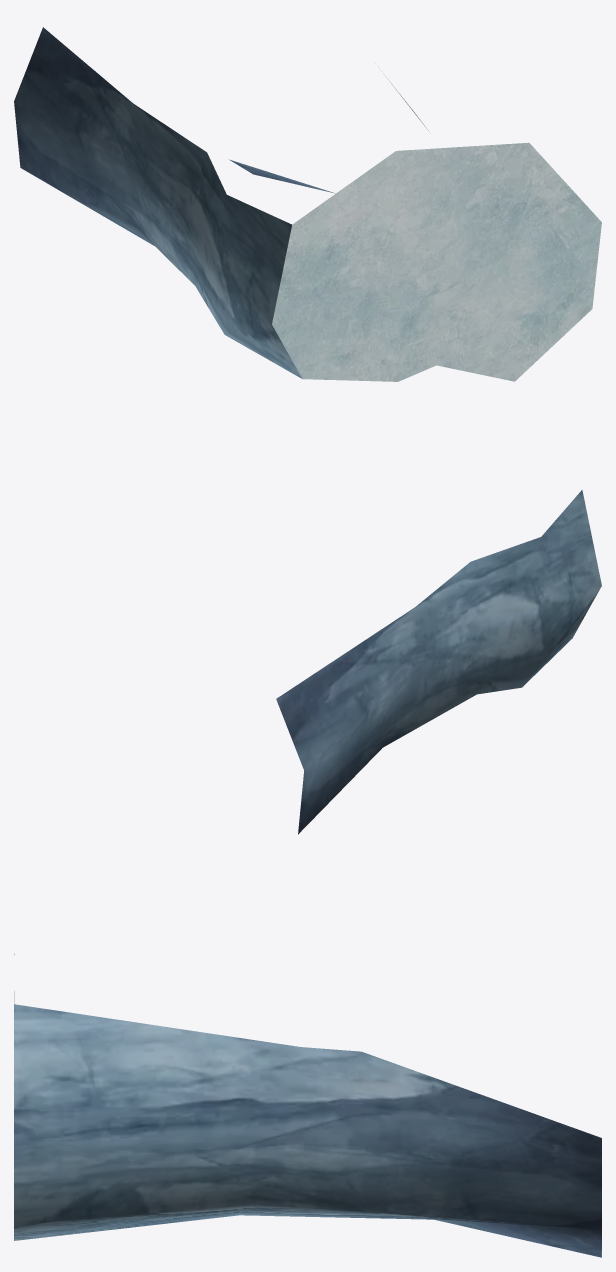
3 renders of one model, top to bottom at view 1: azimuth 30°, elevation 25°; view 2: azimuth 150°, elevation 25°; view 3: azimuth 270°, elevation 25°, orthographic. The views are drawn at different scales.
Visible parts, largest first — view 1: model_Object12; view 2: model_Object12; view 3: model_Object12.
Part boxes in pixels (box(x1,y1,x2,y2)): model_Object12: box(14, 27, 601, 381); model_Object12: box(276, 490, 601, 834); model_Object12: box(14, 953, 601, 1257).
Size of the model in its own units: 3.25 by 2.61 by 4.84.
2 materials, 2 textured.
